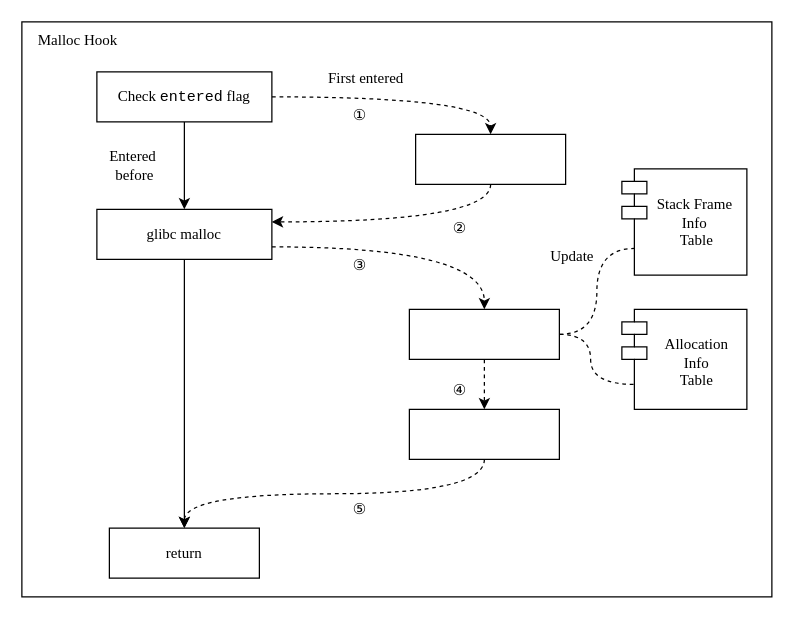
Image size: 794x619. Some labels were removed from this diagram. Here are the shapes that lost their labels. From the top down, the box of each, then its label:
(414, 133, 566, 184): Set entered flag
(408, 308, 559, 359): Log allocation info
(408, 408, 559, 459): Reset entered flag
